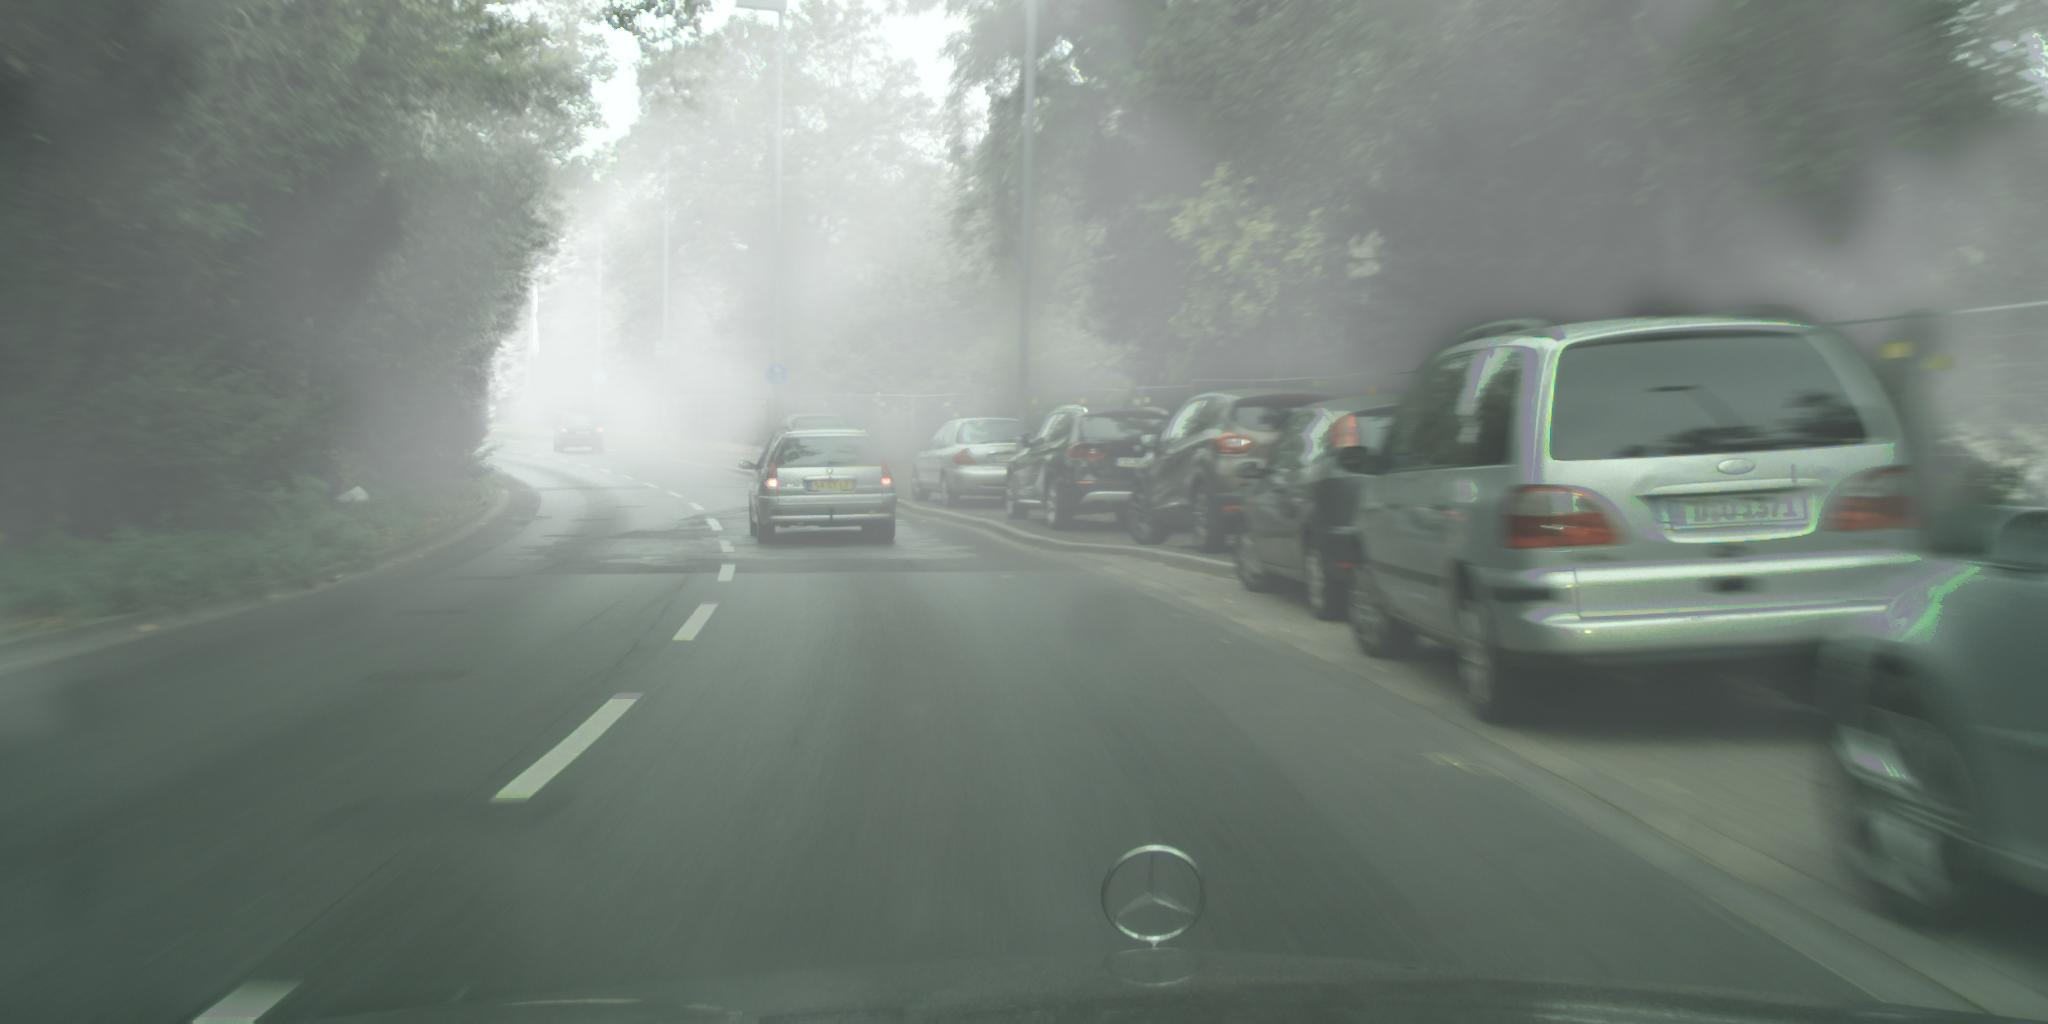car: (1336, 302, 1936, 726), (1817, 496, 2048, 935), (1234, 394, 1415, 622), (1126, 388, 1368, 555), (1003, 404, 1179, 532), (739, 423, 897, 547), (910, 417, 1041, 508), (771, 411, 848, 452), (552, 411, 605, 455)
